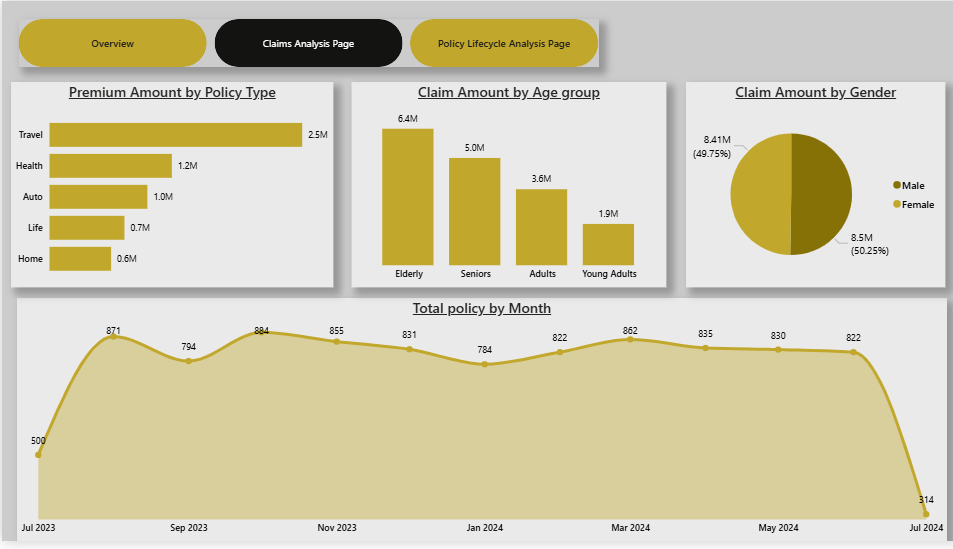

The page's visual inventory and layout, read from the dashboard file:
{"tool":"powerbi","page":{"name":"Claims Analysis Page","canvas":[1280,720],"ordinal":1},"visuals":[{"type":"lineChart","title":"Total policy by Month","fields":{"Y":["CountNonNull(InsuranceData.PolicyNumber)"],"Category":["InsuranceData.PolicyStartDate.Variation.Date Hierarchy.Year","InsuranceData.PolicyStartDate.Variation.Date Hierarchy.Month"]},"box":[20,396,1240,324],"z":0},{"type":"barChart","title":"Premium Amount by Policy Type","fields":{"Y":["Sum(InsuranceData.PremiumAmount)"],"Category":["InsuranceData.PolicyType"]},"box":[12,108,430,274],"z":2},{"type":"columnChart","title":"Claim Amount by Age group","fields":{"Category":["InsuranceData.Age Category"],"Y":["Sum(InsuranceData.ClaimAmount)"]},"box":[466,108,420,274],"z":3},{"type":"pieChart","title":"Claim Amount by Gender","fields":{"Y":["Sum(InsuranceData.ClaimAmount)"],"Category":["InsuranceData.Gender"]},"box":[912,108,346,274],"z":4},{"type":"pageNavigator","box":[22,24,774,64],"z":5}]}

Visuals, with their boxes in screenshot pixels (x1, y1, x2, y2), scaled from the page's 1280x720 canvas onto the 953x549 screenshot:
"Total policy by Month" lineChart: 15, 302, 938, 548
"Premium Amount by Policy Type" barChart: 9, 82, 329, 291
"Claim Amount by Age group" columnChart: 347, 82, 660, 291
"Claim Amount by Gender" pieChart: 679, 82, 937, 291
pageNavigator: 16, 18, 593, 67
